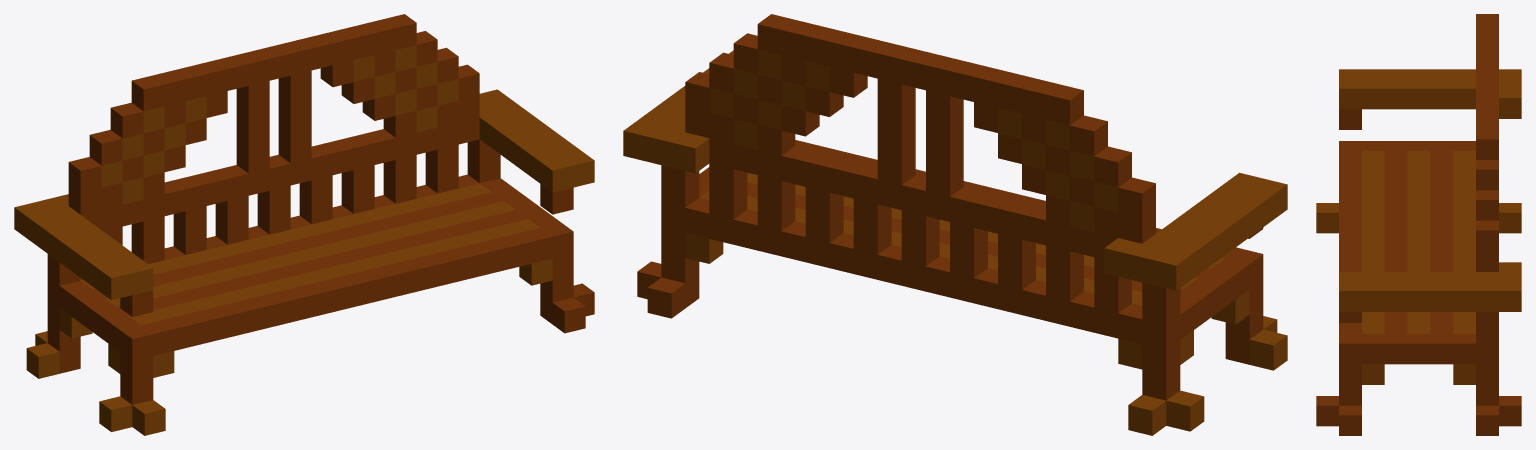
Rendered from benk.obj.
3 views of the same model, side by side, from view 1: azimuth 30°, elevation 25°; view 2: azimuth 150°, elevation 25°; view 3: azimuth 270°, elevation 25° (orthographic). The views are drawn at different scales.
Bounding box in the file's own units: 2.3 × 1.2 × 0.9.
1 material, 1 textured.
